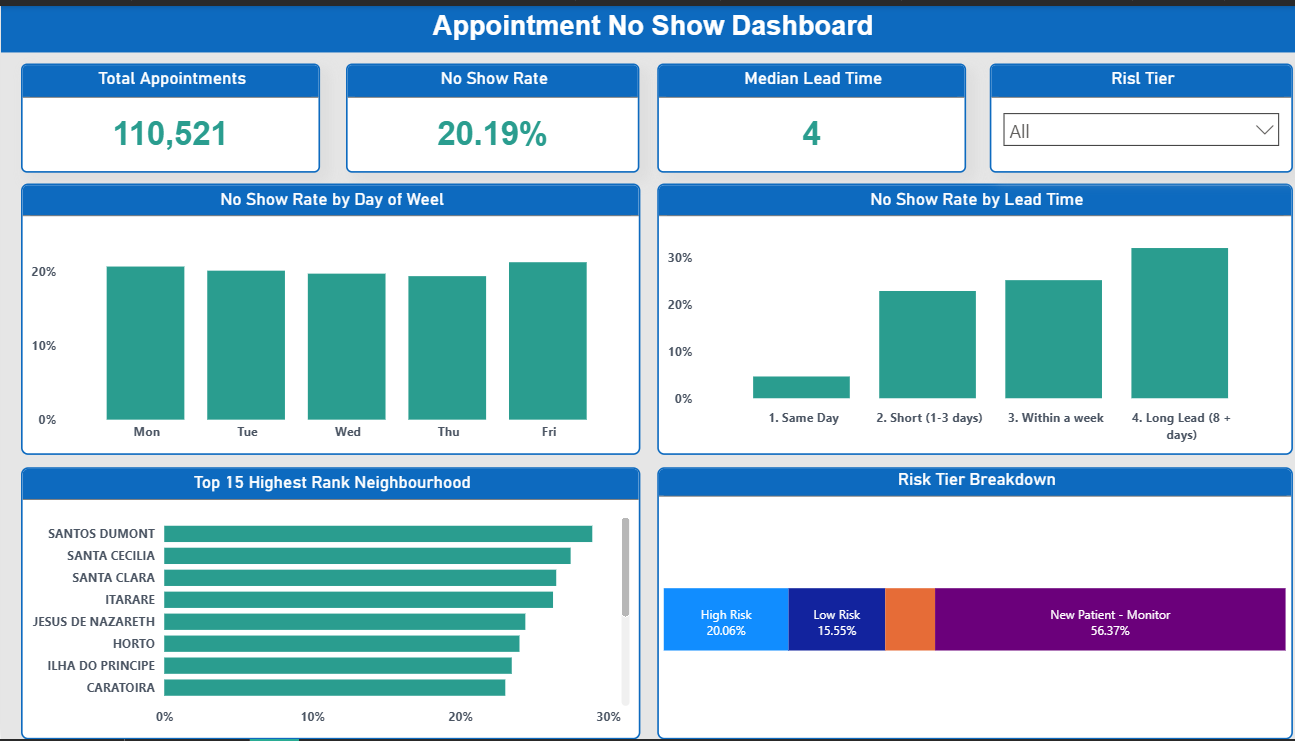

The dashboard page shown, as its layout file describes it:
{"tool":"powerbi","page":{"name":"Dashboard","canvas":[1280,720],"ordinal":0},"visuals":[{"type":"textbox","box":[0,0,1280.3,45.3],"z":0},{"type":"card","title":"Total Appointments","fields":{"Values":["CountNonNull(hospital_no_show.PatientId)"]},"box":[19.2,56.3,293.7,107],"z":1000},{"type":"card","title":"No Show Rate","fields":{"Values":["Sheet1.No Show Rate"]},"box":[338.9,56.3,288.2,107],"z":2000},{"type":"card","title":"Median Lead Time","fields":{"Values":["Median(hospital_no_show.lead_time_days)"]},"box":[643.6,56.3,303.3,107],"z":3000},{"type":"clusteredColumnChart","title":"No Show Rate by Day of Weel","fields":{"Y":["Sheet1.No Show Rate"],"Category":["hospital_no_show.Day Short"]},"box":[19.2,174.3,607.9,266.2],"z":4000},{"type":"clusteredColumnChart","title":"No Show Rate by Lead Time","fields":{"Y":["Sheet1.No Show Rate"],"Category":["hospital_no_show.Lead Time Category"]},"box":[643.6,174.3,624.4,266.2],"z":5000},{"type":"clusteredBarChart","title":"Top 15 Highest Rank Neighbourhood","fields":{"Category":["hospital_no_show.Neighbourhood"],"Y":["Sheet1.No Show Rate"]},"box":[19.2,452.8,607.9,267.6],"z":6000},{"type":"hundredPercentStackedBarChart","title":"Risk Tier Breakdown","fields":{"Series":["v_appointment_risk.risk_tier"],"Y":["CountNonNull(hospital_no_show.AppointmentID)"]},"box":[643.6,452.8,624.4,267.6],"z":7000},{"type":"slicer","title":"Risl Tier","fields":{"Values":["v_appointment_risk.risk_tier"]},"box":[970.2,56.3,297.8,107],"z":8000}]}

Visuals, with their boxes in screenshot pixels (x1, y1, x2, y2), scaled from the page's 1280x720 canvas onto the 1295x741 screenshot:
textbox: [0, 0, 1294, 47]
"Total Appointments" card: [19, 58, 317, 168]
"No Show Rate" card: [343, 58, 634, 168]
"Median Lead Time" card: [651, 58, 958, 168]
"No Show Rate by Day of Weel" clusteredColumnChart: [19, 179, 634, 453]
"No Show Rate by Lead Time" clusteredColumnChart: [651, 179, 1283, 453]
"Top 15 Highest Rank Neighbourhood" clusteredBarChart: [19, 466, 634, 740]
"Risk Tier Breakdown" hundredPercentStackedBarChart: [651, 466, 1283, 740]
"Risl Tier" slicer: [982, 58, 1283, 168]
